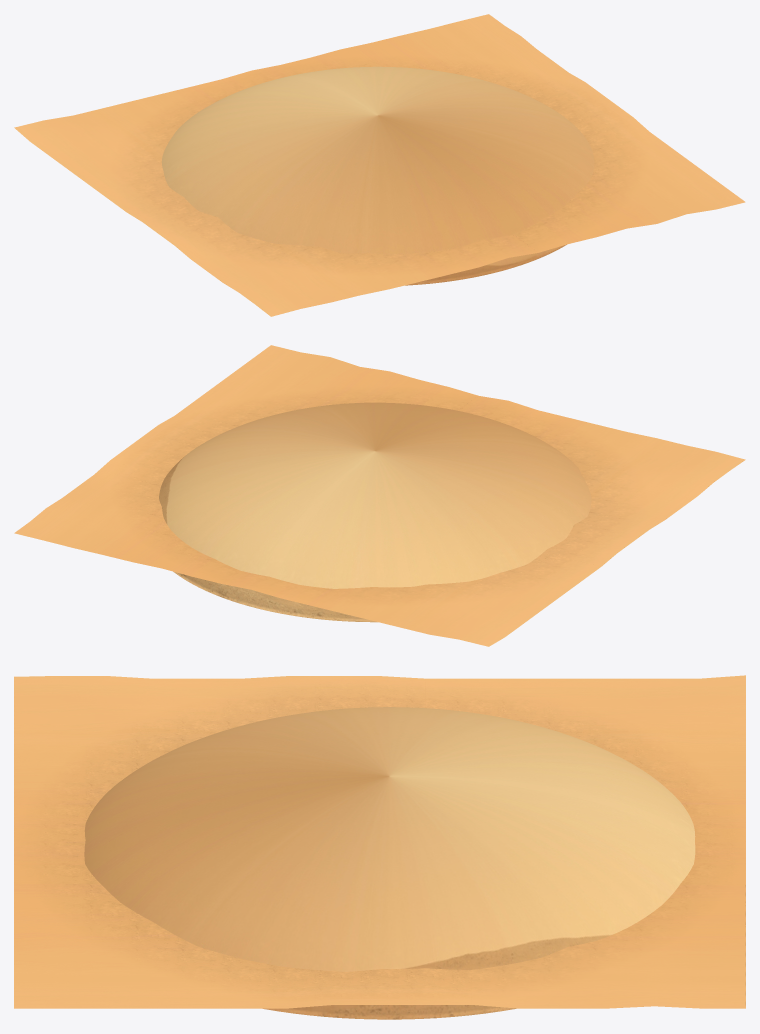
The model's file is mars_one_mission_-_base.glb.
The picture shows the model from 3 angles, top to bottom: view 1: azimuth 30°, elevation 25°; view 2: azimuth 150°, elevation 25°; view 3: azimuth 270°, elevation 25°; orthographic projection. The views are drawn at different scales.
Visible parts, largest first — view 1: Object_6, Object_3, Object_4, Object_5, Object_2; view 2: Object_6, Object_3, Object_4, Object_5, Object_2; view 3: Object_6, Object_3, Object_4, Object_5, Object_2.
Part boxes in pixels (x1,y1,x2,y2): Object_6: (161,66,594,285); Object_3: (127,196,537,316); Object_4: (513,82,745,252); Object_5: (14,57,327,212); Object_2: (311,14,584,97); Object_6: (159,402,591,622); Object_3: (458,396,745,566); Object_4: (110,345,478,476); Object_5: (192,550,600,646); Object_2: (14,460,214,576); Object_6: (84,707,695,1019); Object_3: (14,676,425,864); Object_4: (14,864,471,1008); Object_5: (425,675,745,884); Object_2: (471,883,745,1008).
Size of the model in its own units: 986 by 146 by 925.
30 materials, 30 textured.
